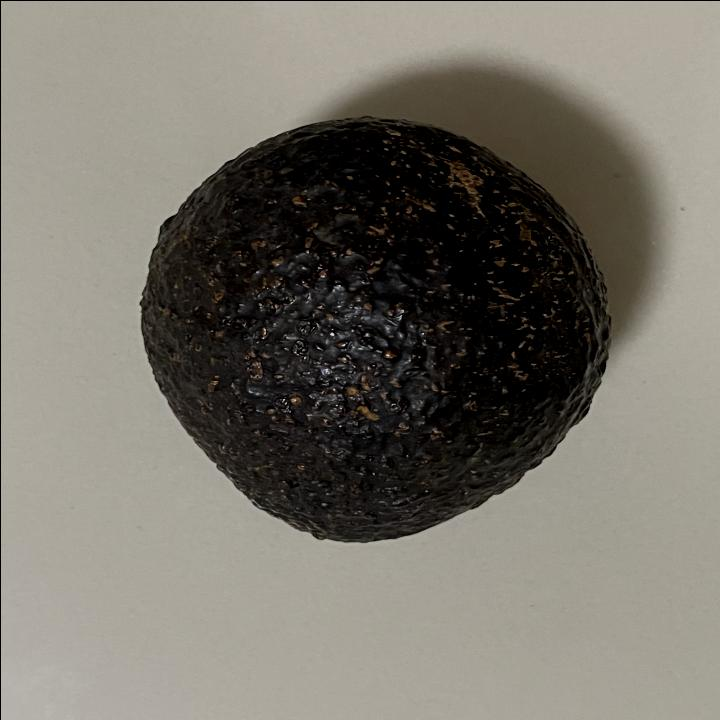Level3: (125, 107, 622, 556)
